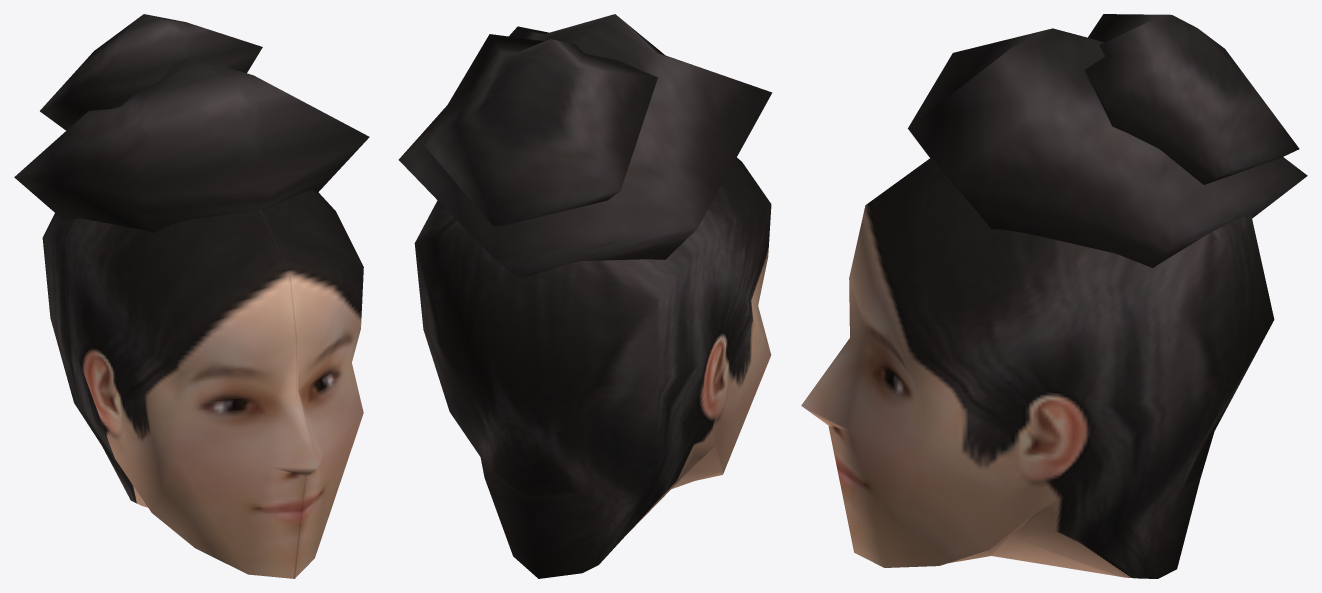
Rendered from yayoi_fem_head_a.dae.
3 renders of one model, left to right at view 1: azimuth 30°, elevation 25°; view 2: azimuth 150°, elevation 25°; view 3: azimuth 270°, elevation 25°, orthographic. The views are drawn at different scales.
Visible parts, largest first — view 1: yayoi_fem_head_a; view 2: yayoi_fem_head_a; view 3: yayoi_fem_head_a.
Part boxes in pixels (x1,y1,x2,y2): yayoi_fem_head_a: (14,14,369,578); yayoi_fem_head_a: (398,14,772,578); yayoi_fem_head_a: (801,14,1307,578).
Size of the model in its own units: 0.4318 by 0.6121 by 0.731.
